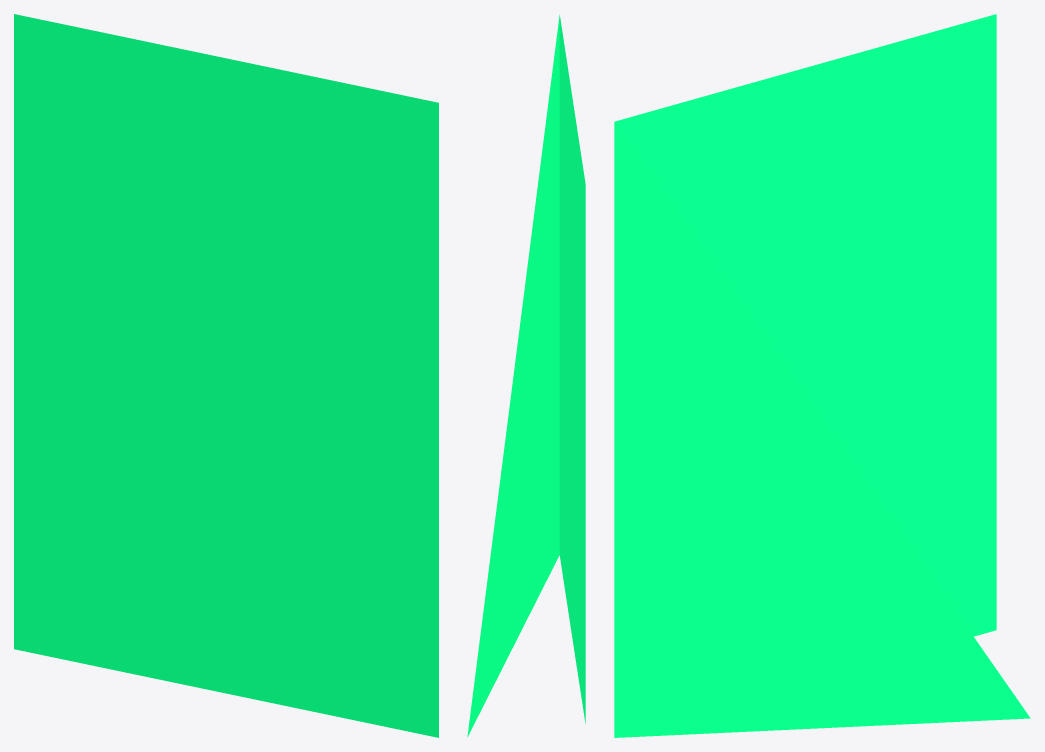
Rendered from quicksort_partition_tree_ar_universal.glb.
3 views of the same model, side by side, from view 1: azimuth 30°, elevation 25°; view 2: azimuth 150°, elevation 25°; view 3: azimuth 270°, elevation 25° (orthographic). The views are drawn at different scales.
Visible parts, largest first — view 1: quicksort_partition_tree_ar; view 2: quicksort_partition_tree_ar; view 3: quicksort_partition_tree_ar.
Part boxes in pixels (x1,y1,x2,y2): quicksort_partition_tree_ar: (14, 14, 438, 737); quicksort_partition_tree_ar: (467, 15, 585, 737); quicksort_partition_tree_ar: (614, 14, 1030, 737).
Size of the model in its own units: 0.3572 by 1 by 0.5835.
